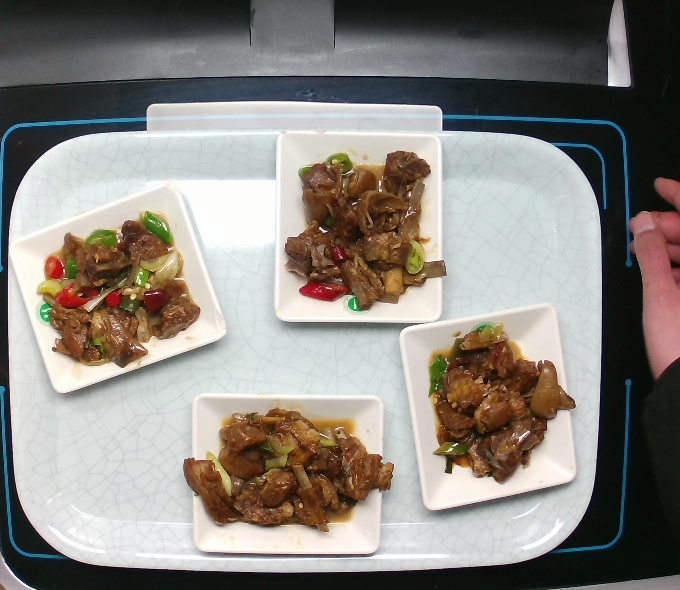wcq-YangRou: (179, 403, 396, 544), (36, 200, 208, 373), (418, 316, 590, 489), (280, 141, 452, 314)
